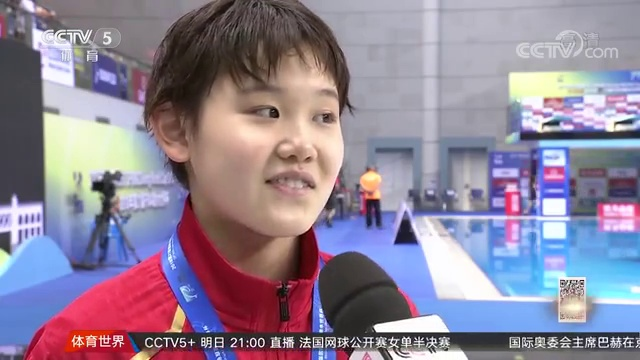face: (205, 53, 343, 233)
